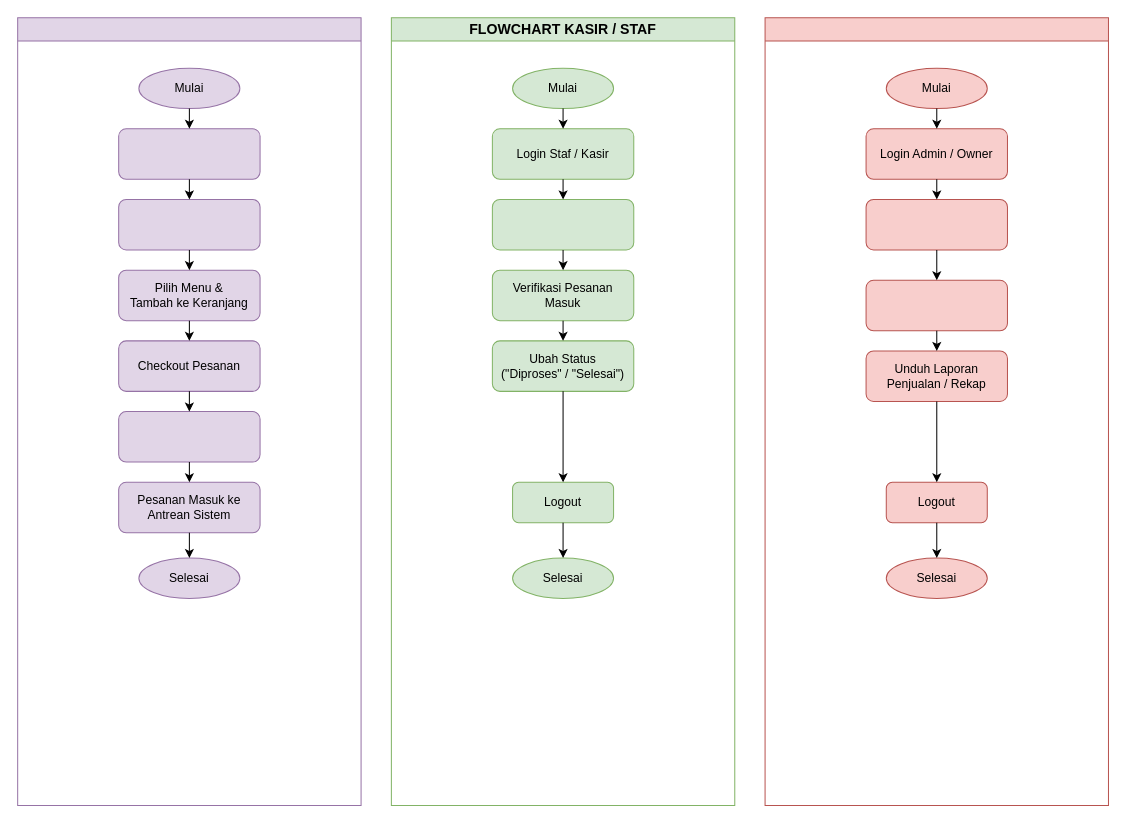
The diagram is 1126 pixels wide and 823 high, and some of its shapes have lost their labels. Each missing label, with the box of its shape:
Buka Website Fina Berry: (118, 128, 260, 179)
Dashboard Admin (Kelola Menu / Laporan): (865, 198, 1007, 250)
Dashboard Kasir (Kelola Pesanan): (491, 198, 634, 250)
FLOWCHART ADMIN / OWNER: (764, 17, 1108, 805)
FLOWCHART PELANGGAN: (17, 17, 361, 805)
Kelola Menu Web (Tambah / Edit / Hapus): (865, 279, 1007, 331)
Konfirmasi & Kirim via WhatsApp: (118, 411, 260, 462)
Lihat Daftar Menu: (118, 198, 260, 250)
